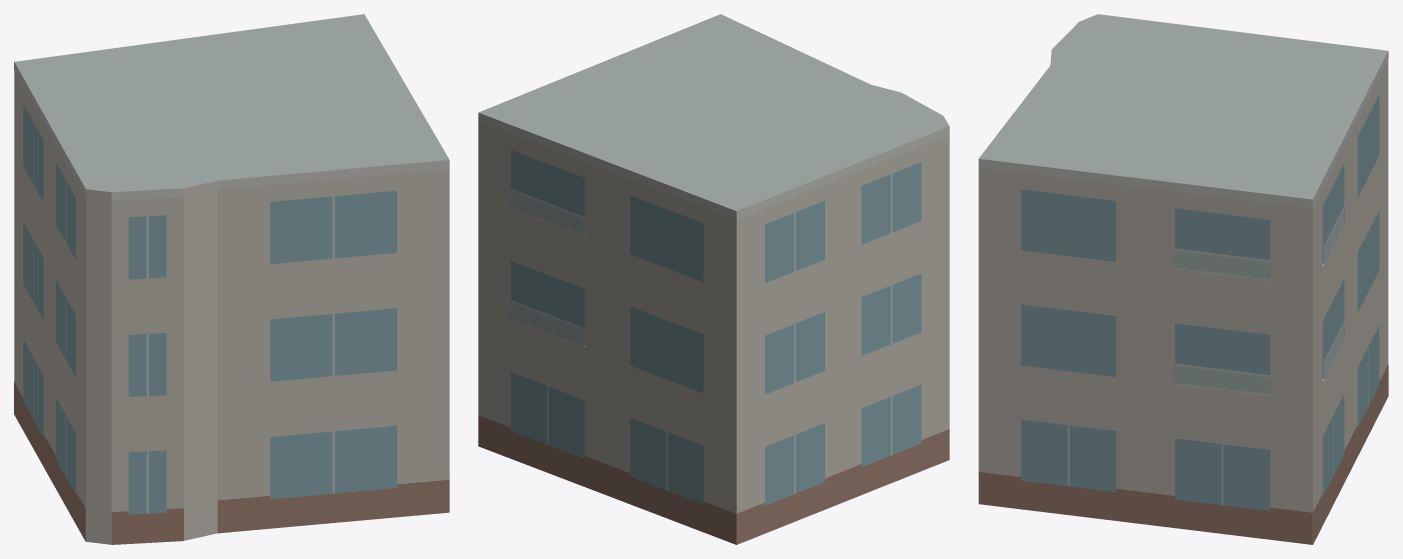
The model's file is survey-upis-32646163.glb.
3 renders of one model, left to right at view 1: azimuth 30°, elevation 25°; view 2: azimuth 150°, elevation 25°; view 3: azimuth 270°, elevation 25°, orthographic. The views are drawn at different scales.
Parts seen in each view (by area): view 1: survey-upis-32646163.tmp; view 2: survey-upis-32646163.tmp; view 3: survey-upis-32646163.tmp.
Part boxes in pixels (<box>): survey-upis-32646163.tmp: <box>14,14,449,544</box>; survey-upis-32646163.tmp: <box>478,14,949,544</box>; survey-upis-32646163.tmp: <box>978,14,1388,544</box>.
Bounding box in the file's own units: 11.07 × 9.6 × 10.34.
